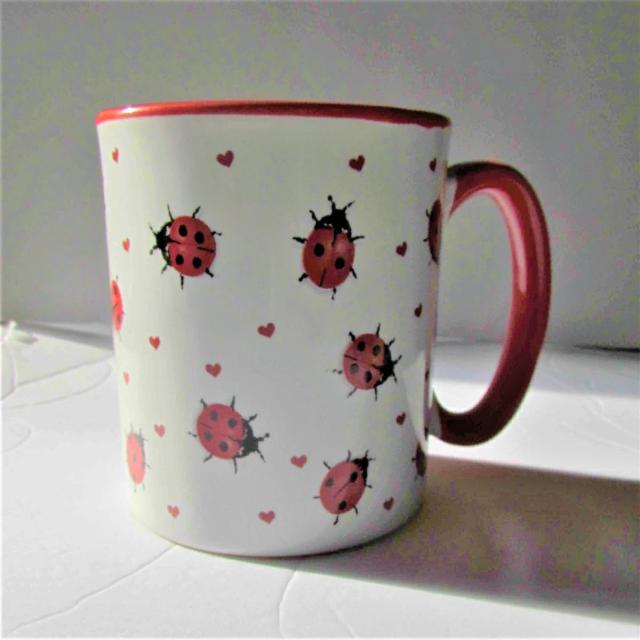glass cup: (97, 101, 553, 557)
